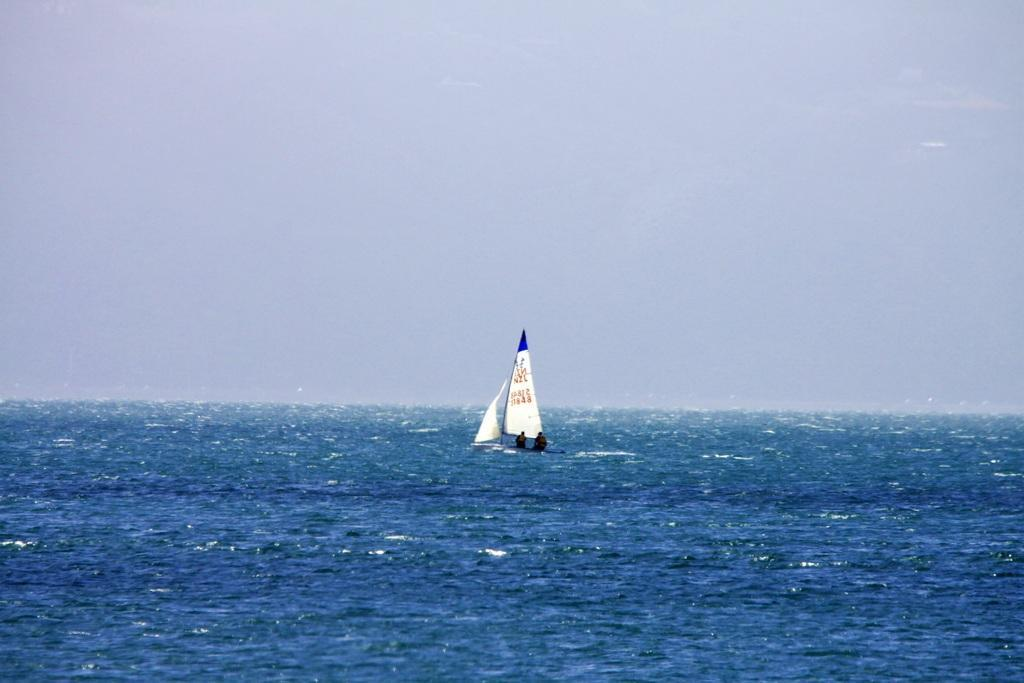fanchuan: (467, 328, 563, 460)
